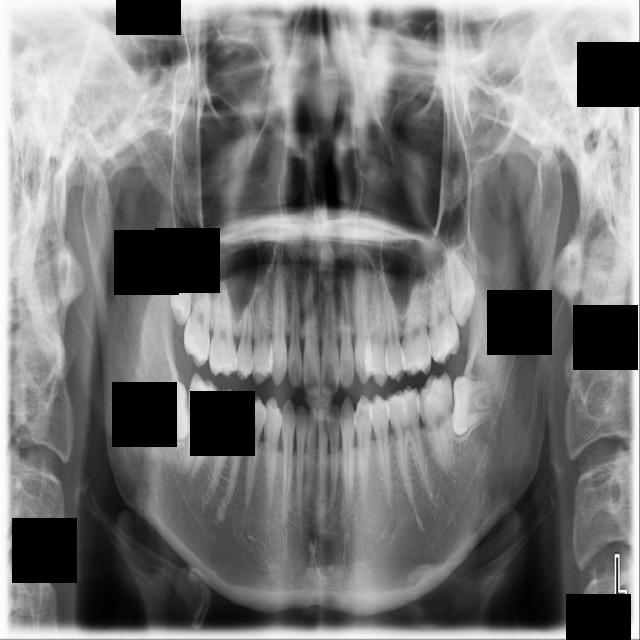3M ESPE Implant: (169, 241, 194, 327)
73: (598, 578, 604, 592)
BioHorizons Implant: (425, 258, 461, 365)
BioLife Implant: (441, 238, 480, 328)
Biomet 3i Implant: (450, 375, 493, 438)
Blue Sky Bio Implant: (411, 370, 466, 479)
Caries: (182, 263, 212, 368)
Implant: (181, 372, 223, 482)
Keystone Dental Implant: (151, 379, 192, 443)
